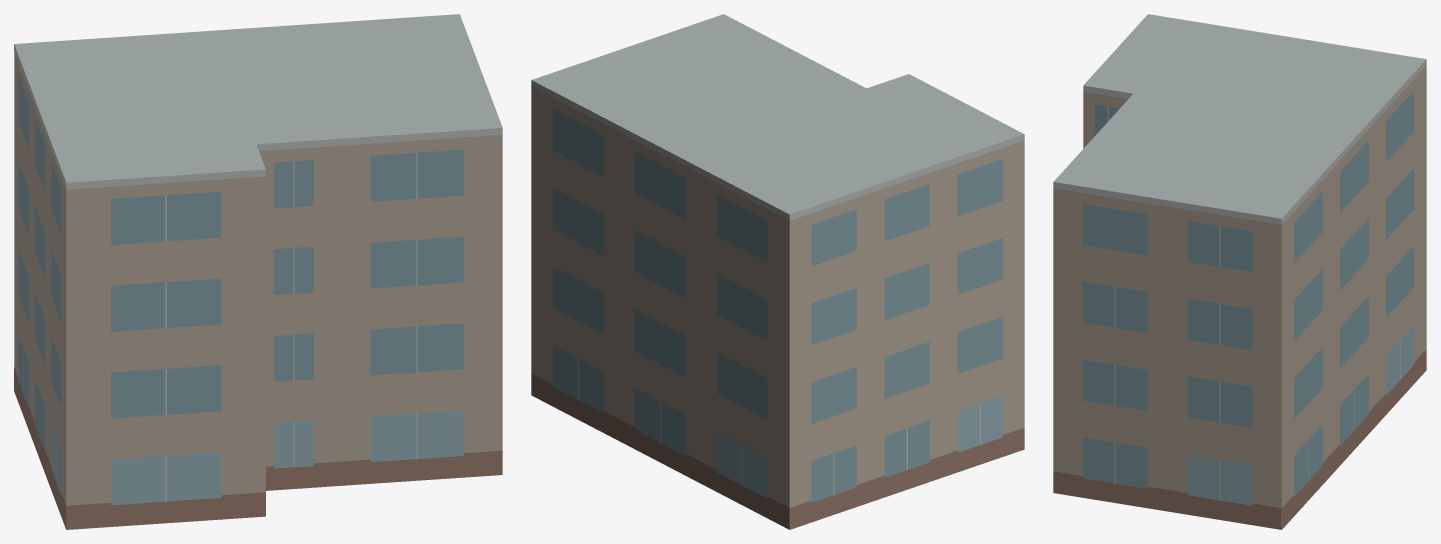
Rendered from residential-31c98051-1545-4e26-b578-d46ba26abcc9.glb.
The picture shows the model from 3 angles, left to right: view 1: azimuth 30°, elevation 25°; view 2: azimuth 150°, elevation 25°; view 3: azimuth 270°, elevation 25°; orthographic projection. The views are drawn at different scales.
Visible parts, largest first — view 1: residential-31c98051-1545-4e26-b578-d46ba26abcc9.tmp; view 2: residential-31c98051-1545-4e26-b578-d46ba26abcc9.tmp; view 3: residential-31c98051-1545-4e26-b578-d46ba26abcc9.tmp.
Part boxes in pixels (box(x1,y1,x2,y2)): residential-31c98051-1545-4e26-b578-d46ba26abcc9.tmp: box(14, 14, 502, 529); residential-31c98051-1545-4e26-b578-d46ba26abcc9.tmp: box(531, 14, 1024, 529); residential-31c98051-1545-4e26-b578-d46ba26abcc9.tmp: box(1053, 14, 1426, 529).
Bounding box in the file's own units: 17.23 × 12.2 × 13.27.
